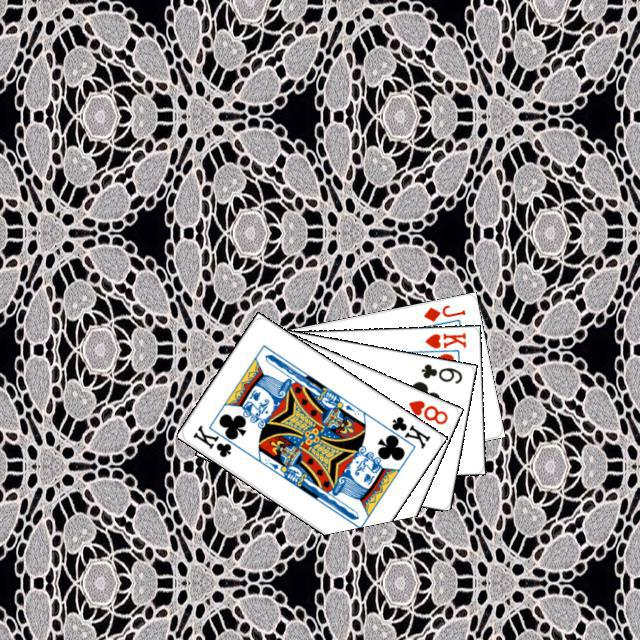6c: (416, 359, 464, 385)
8h: (403, 395, 450, 426)
Jd: (418, 300, 468, 323)
Kc: (378, 411, 432, 451), (188, 420, 242, 459)
Kh: (416, 328, 468, 355)
